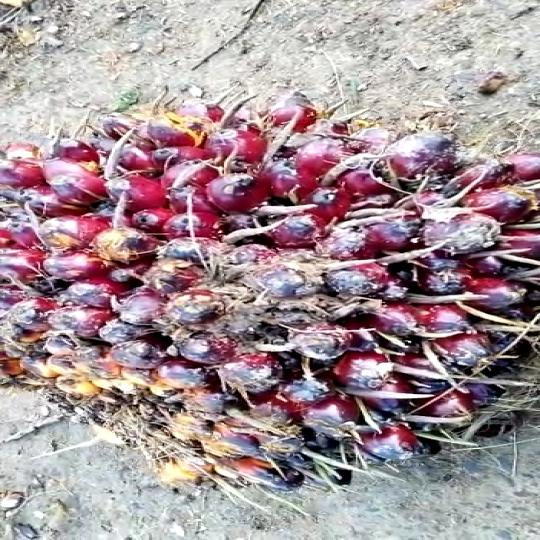kurang masak: (7, 92, 540, 496)
